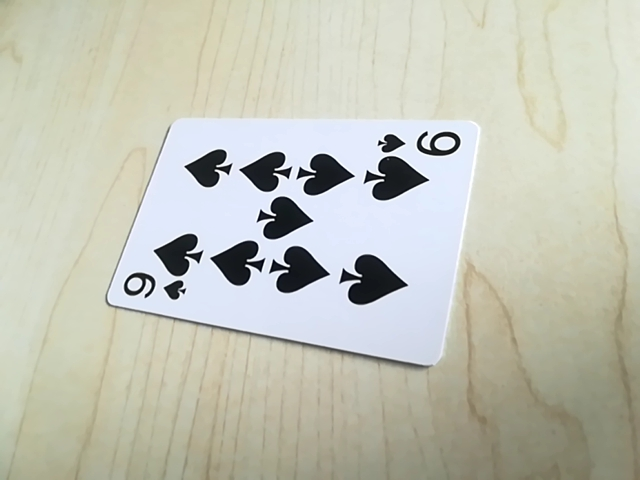ht 9: (370, 124, 467, 159), (114, 272, 193, 308)
